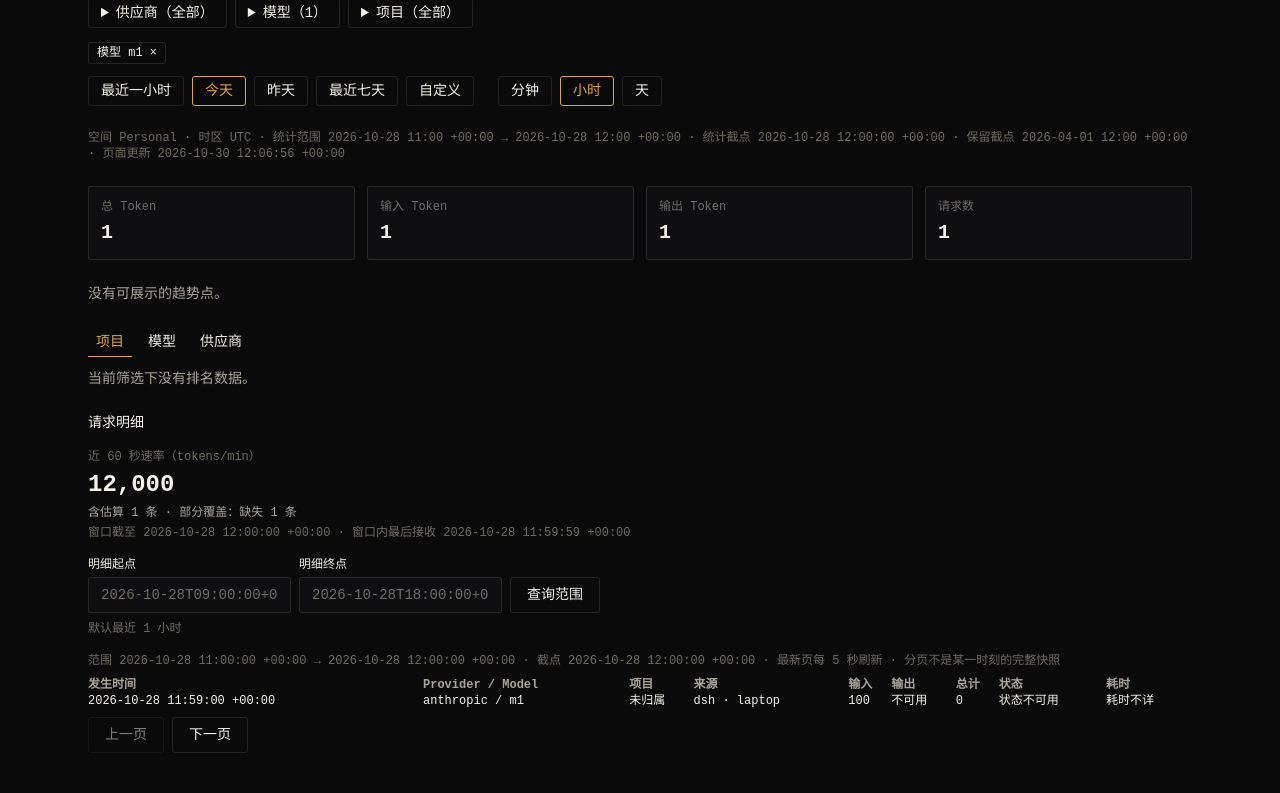
it: request log panel › resets the cursor when a filter changes
(page scrolled)
expect the row with test id "request-row" is shown: met, box [88,693,1192,709]
Click the button "下一页". click: point(210, 735)
box: [172,717,248,753]
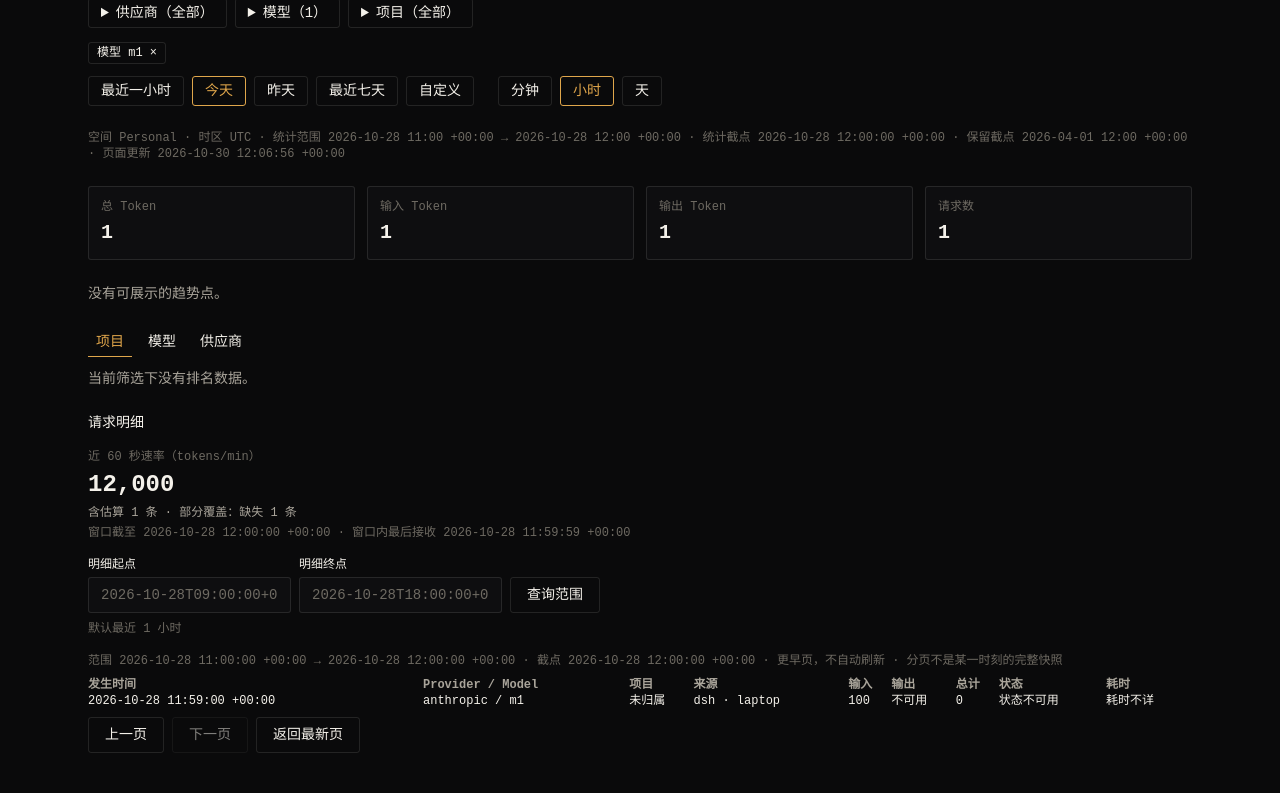
expect the text "更早页" is shown: met, box [755,654,885,668]
Click the button with aria-label "移除 模型 m1". click: point(127, 53)
box: [88,42,166,64]
(page scrolled)
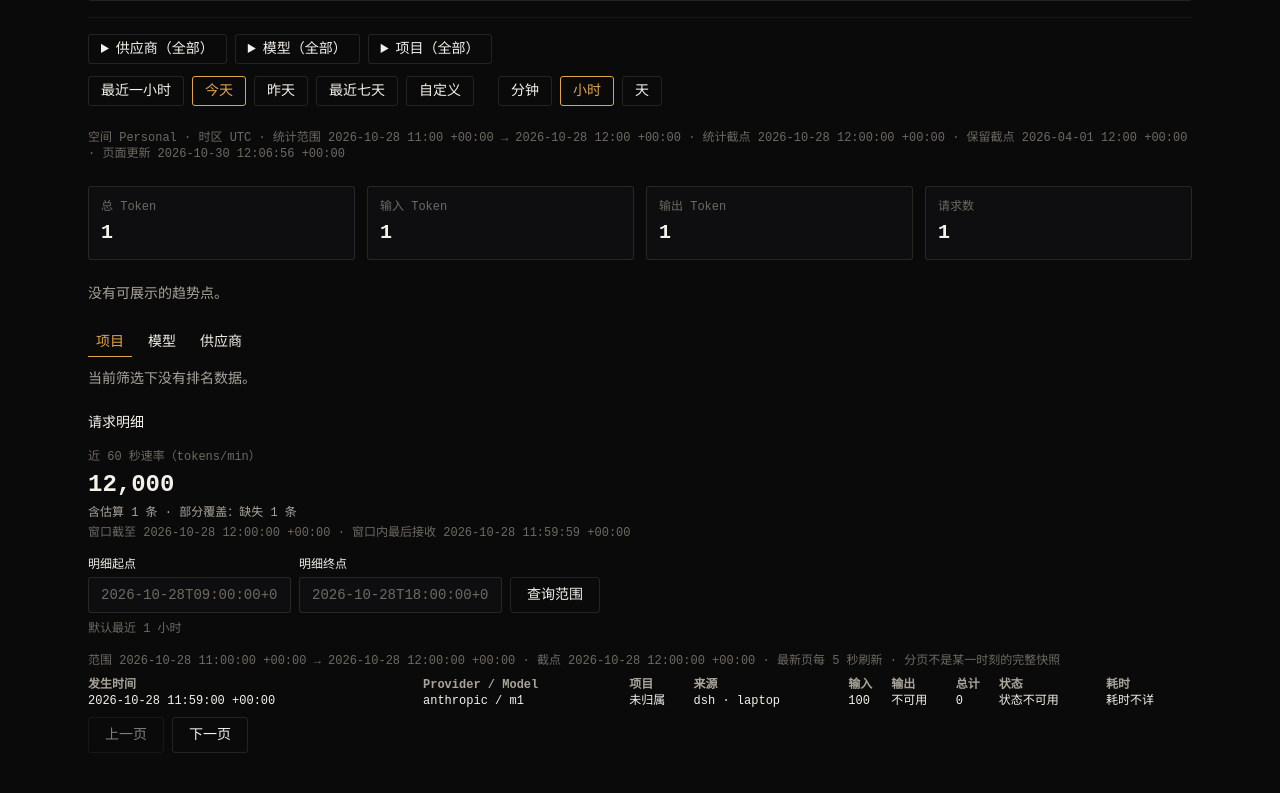
expect the text "最新页每 5 秒刷新" is shown: met, box [755,654,882,668]
